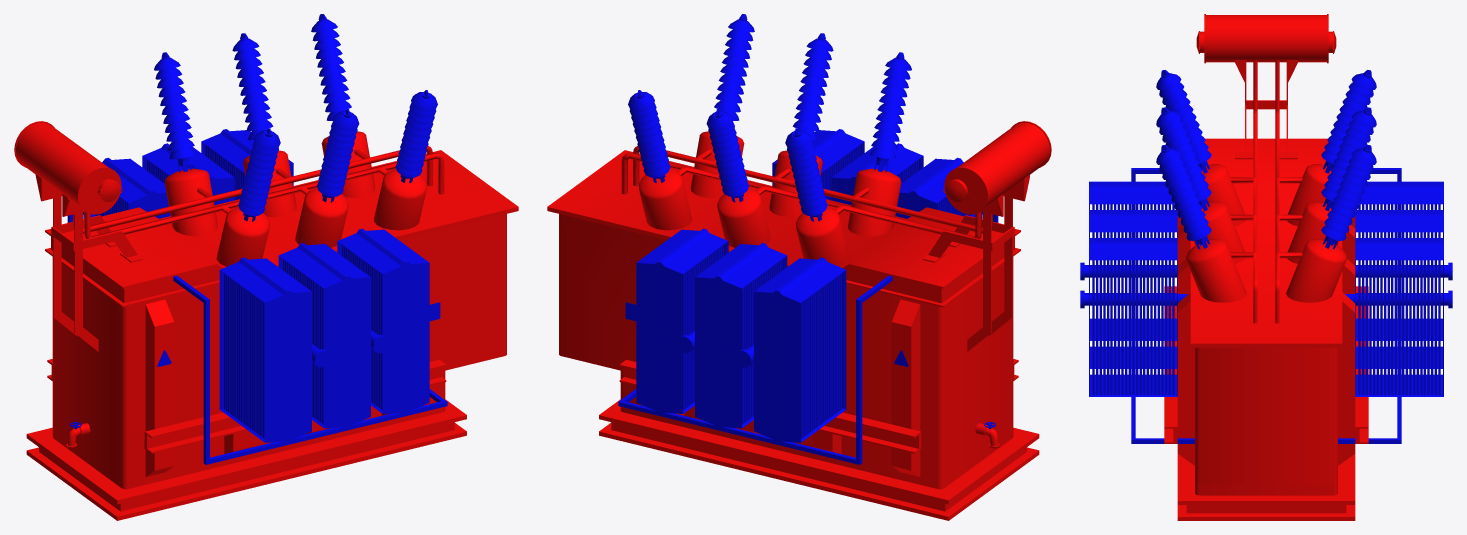
Rendered from Power_Transformer_2.fbx.
The picture shows the model from 3 angles, left to right: view 1: azimuth 30°, elevation 25°; view 2: azimuth 150°, elevation 25°; view 3: azimuth 270°, elevation 25°; orthographic projection. The views are drawn at different scales.
Parts seen in each view (by area): view 1: transformer2_boxUV; view 2: transformer2_boxUV; view 3: transformer2_boxUV.
Boxes of the visible parts, x1,y1,x2,y2 form: transformer2_boxUV: (14,14,518,520); transformer2_boxUV: (547,14,1051,520); transformer2_boxUV: (1080,14,1452,520).
Size of the model in its own units: 552 by 440 by 420.
